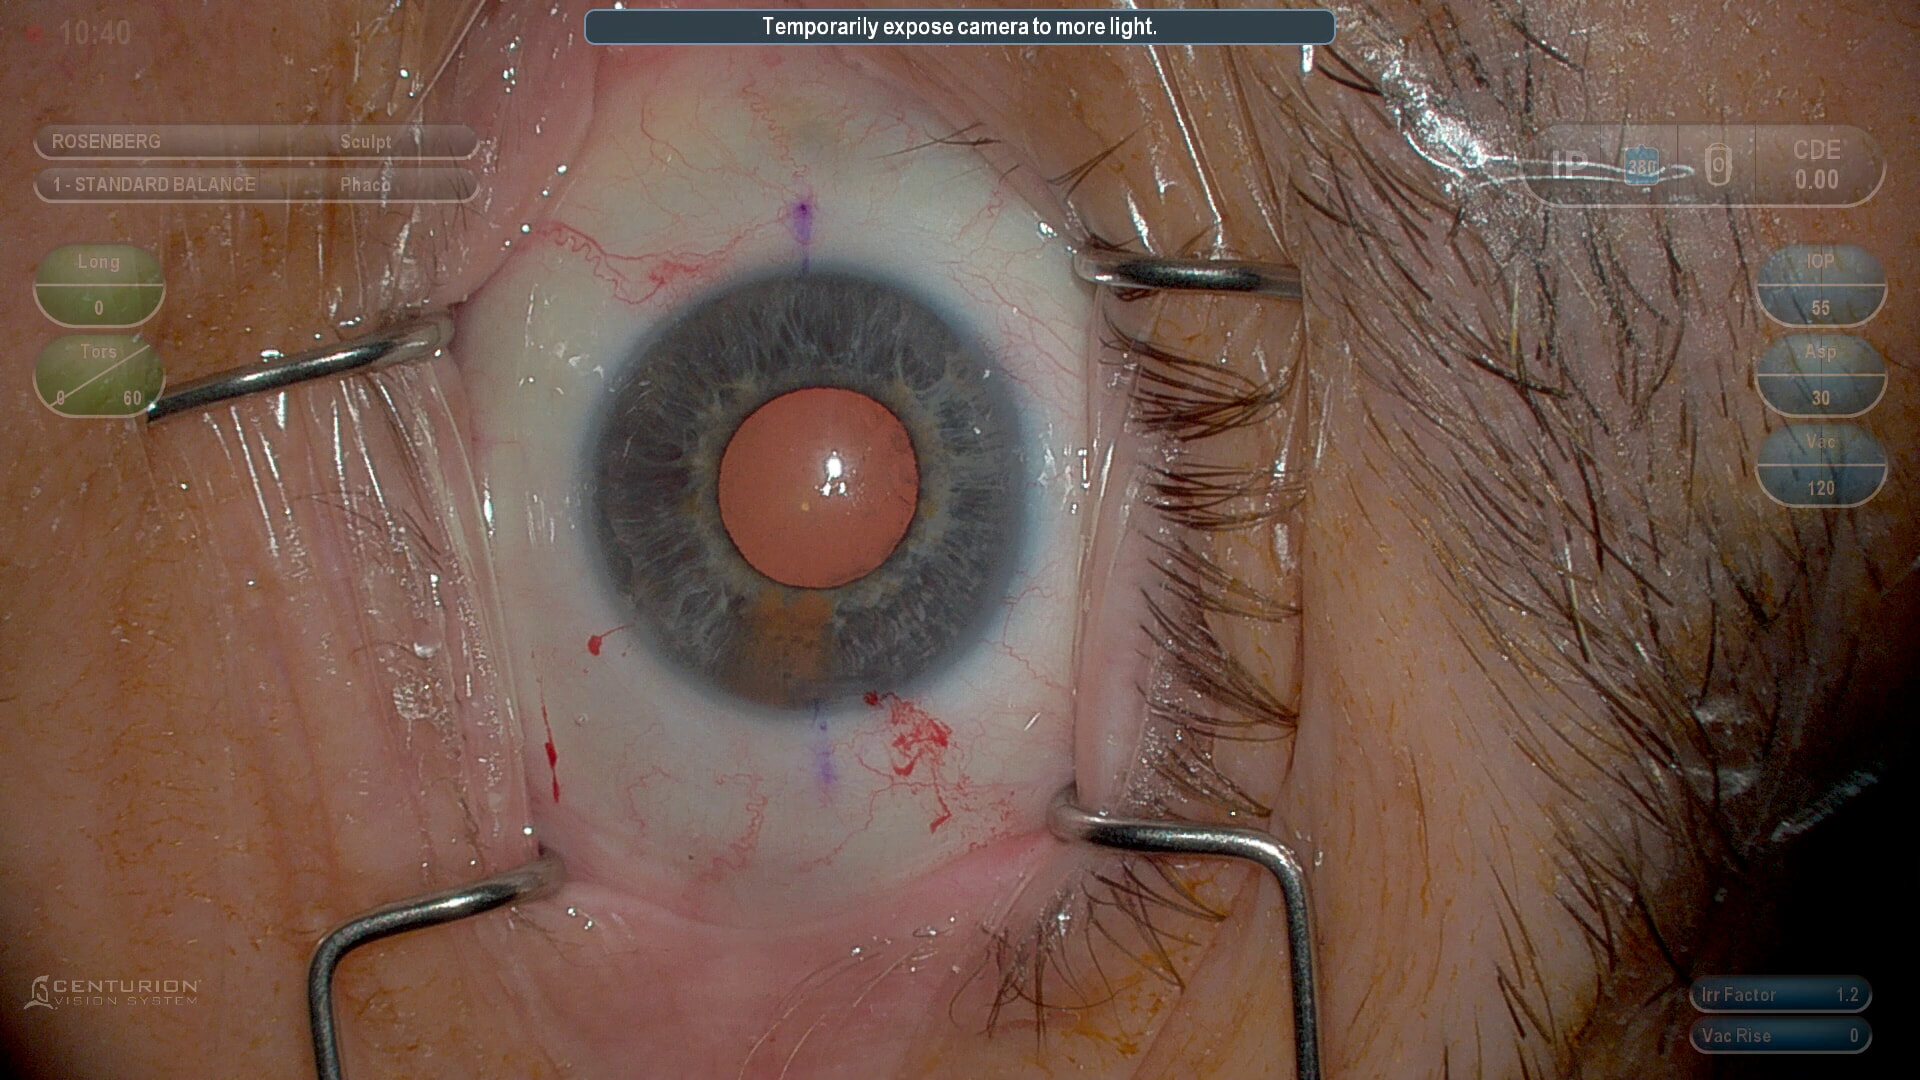iris: (605, 280, 1020, 709)
pupil: (718, 385, 925, 592)
